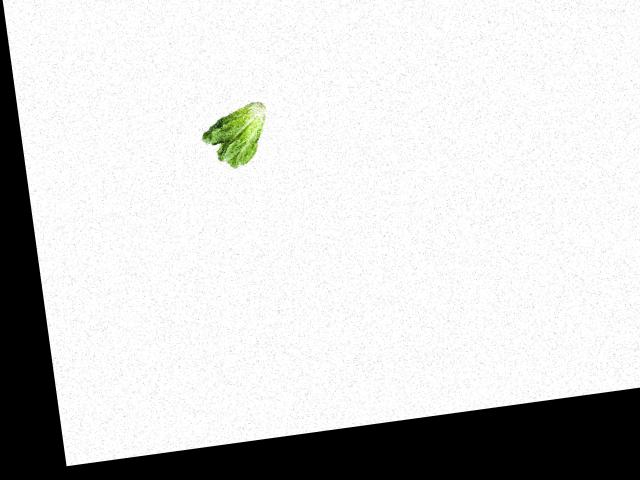lettuce: (198, 99, 276, 180)
